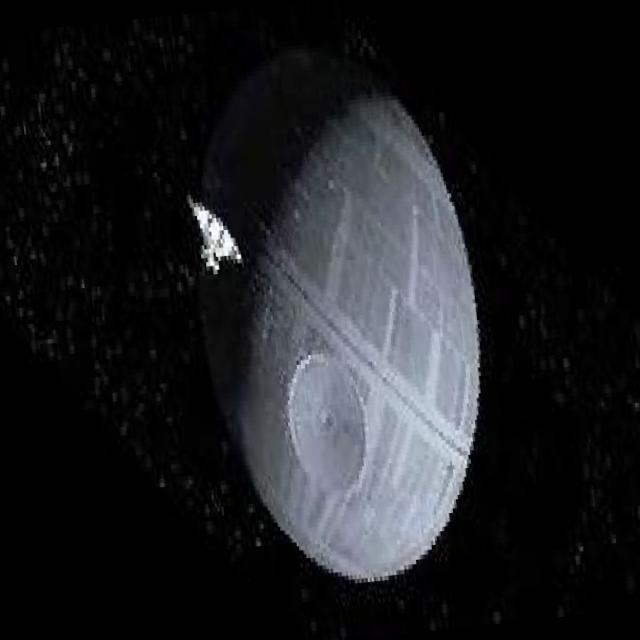Death Star: (160, 26, 504, 604)
